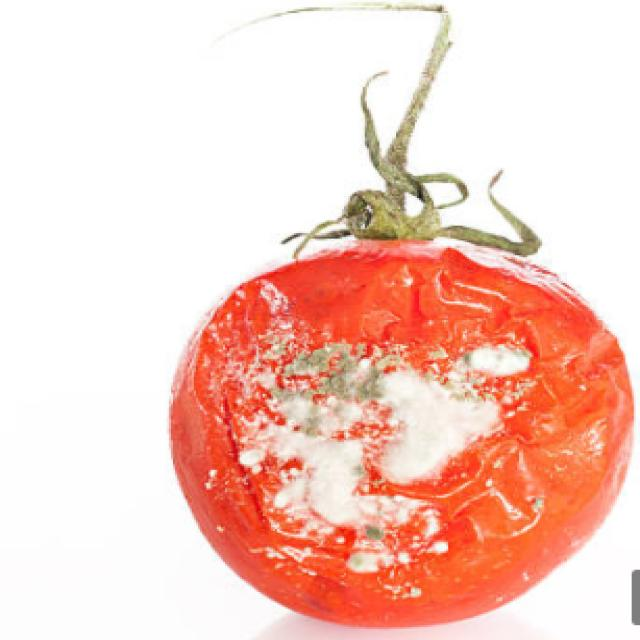Wet Waste: (156, 228, 628, 628)
